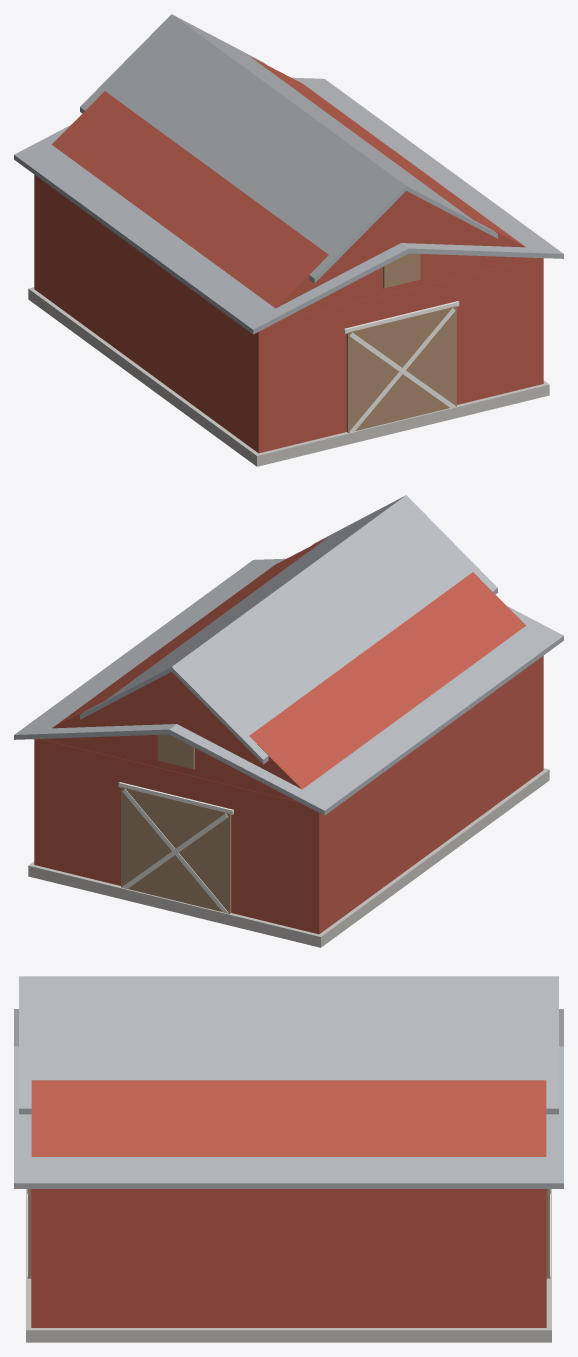
File: barn.glb
The picture shows the model from 3 angles, top to bottom: view 1: azimuth 30°, elevation 25°; view 2: azimuth 150°, elevation 25°; view 3: azimuth 270°, elevation 25°; orthographic projection. The views are drawn at different scales.
Parts seen in each view (by area): view 1: barn; view 2: barn; view 3: barn.
Boxes of the visible parts, x1,y1,x2,y2 form: barn: [14, 14, 563, 466]; barn: [14, 495, 563, 947]; barn: [14, 976, 563, 1342].
Bounding box in the file's own units: 12 × 9.13 × 16.
